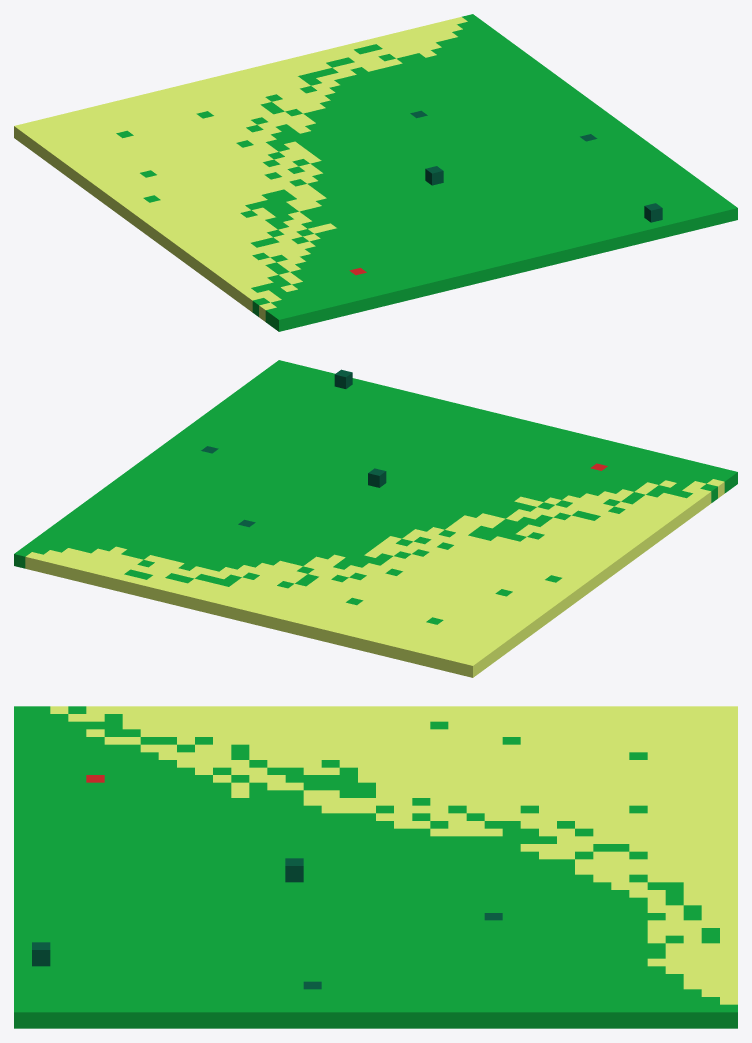
Rendered from pystinya1.obj.
3 views of the same model, one above another, from view 1: azimuth 30°, elevation 25°; view 2: azimuth 150°, elevation 25°; view 3: azimuth 270°, elevation 25° (orthographic). The views are drawn at different scales.
Bounding box in the file's own units: 4 × 0.2 × 4.
1 material, 1 textured.
